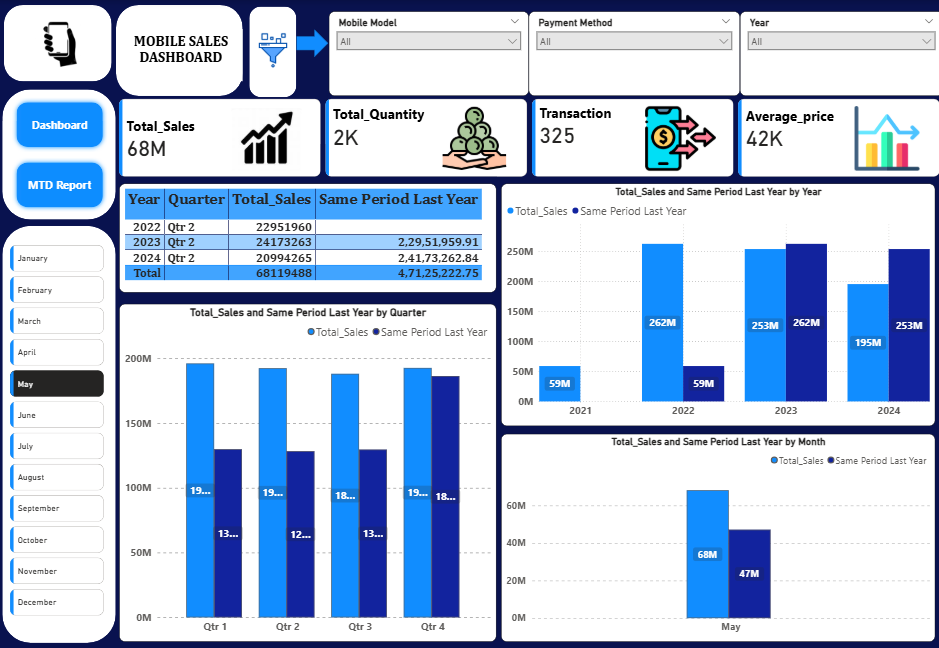

The page's visual inventory and layout, read from the dashboard file:
{"tool":"powerbi","page":{"name":"Same Period Last Year","canvas":[1600,1100],"ordinal":2},"visuals":[{"type":"shape","box":[9.5,9.5,182.9,130],"z":0},{"type":"image","box":[23,20.3,154.4,103],"z":1000},{"type":"shape","box":[5.4,150.4,192.4,220.8],"z":2000},{"type":"cardVisual","fields":{"Data":["Sales data.Total_Sales","Sales data.Total_Quantity","Sales data.Transaction","Sales data.Average_price"]},"box":[197.8,163.9,1402.1,142.2],"z":3000},{"type":"slicer","fields":{"Values":["Sales data.Payment Method"]},"box":[898.3,19.3,358.2,143.3],"z":4000},{"type":"slicer","fields":{"Values":["Sales data.Mobile Model"]},"box":[559.3,19.3,338.9,143.3],"z":5000},{"type":"slicer","fields":{"Values":["Custom_Calender.Date.Variation.Date Hierarchy.Year","Custom_Calender.Date.Variation.Date Hierarchy.Quarter","Custom_Calender.Date.Variation.Date Hierarchy.Month","Custom_Calender.Date.Variation.Date Hierarchy.Day"]},"box":[1256.5,19.3,344.4,143.3],"z":6000},{"type":"shape","box":[425.4,10.2,79.9,153.9],"z":7000},{"type":"image","box":[431.2,18.9,69.7,132.1],"z":8000},{"type":"shape","box":[505.3,50.1,54.2,47.4],"z":9000},{"type":"shape","box":[198.4,8.3,214.9,154.3],"z":10000},{"type":"textbox","box":[203.9,49.6,209.4,88.2],"z":11000},{"type":"shape","box":[5.4,382,192.4,707.1],"z":12000},{"type":"advancedSlicerVisual","fields":{"Values":["Custom_Calender.Date.Variation.Date Hierarchy.Month"]},"box":[14.9,411.8,169.3,647.5],"z":13000},{"type":"tableEx","fields":{"Values":["Custom_Calender.Date.Variation.Date Hierarchy.Year","Custom_Calender.Date.Variation.Date Hierarchy.Quarter","Sales data.Total_Sales","Sales data.Same Period Last Year"]},"box":[203.9,311.4,639.2,184.6],"z":14000},{"type":"clusteredColumnChart","fields":{"Category":["Custom_Calender.Date.Variation.Date Hierarchy.Year","Custom_Calender.Date.Variation.Date Hierarchy.Quarter"],"Y":["Sales data.Total_Sales","Sales data.Same Period Last Year"]},"box":[852.3,310.7,736.1,410.9],"z":15000},{"type":"clusteredColumnChart","fields":{"Category":["Custom_Calender.Date.Variation.Date Hierarchy.Year","Custom_Calender.Date.Variation.Date Hierarchy.Quarter"],"Y":["Sales data.Total_Sales","Sales data.Same Period Last Year"]},"box":[203.9,515.3,639.2,573.1],"z":16000},{"type":"clusteredColumnChart","fields":{"Category":["Custom_Calender.Date.Variation.Date Hierarchy.Year","Custom_Calender.Date.Variation.Date Hierarchy.Quarter","Custom_Calender.Date.Variation.Date Hierarchy.Month","Custom_Calender.Date.Variation.Date Hierarchy.Day"],"Y":["Sales data.Total_Sales","Sales data.Same Period Last Year"]},"box":[852.3,736.1,736.1,352.8],"z":17000},{"type":"pageNavigator","box":[22.2,164.1,162.7,195.2],"z":18000},{"type":"image","box":[375.7,178.6,157.1,114.3],"z":19000}]}

Visuals, with their boxes in screenshot pixels (x1, y1, x2, y2), scaled from the page's 1600x1100 canvas onto the 939x648 screenshot:
shape: select_region(6, 6, 113, 82)
image: select_region(13, 12, 104, 73)
shape: select_region(3, 89, 116, 219)
cardVisual - Sales data.Total_Sales x Sales data.Total_Quantity: select_region(116, 97, 938, 180)
slicer - Sales data.Payment Method: select_region(527, 11, 737, 96)
slicer - Sales data.Mobile Model: select_region(328, 11, 527, 96)
slicer - Custom_Calender.Date.Variation.Date Hierarchy.Year x Custom_Calender.Date.Variation.Date Hierarchy.Quarter: select_region(737, 11, 938, 96)
shape: select_region(250, 6, 297, 97)
image: select_region(253, 11, 294, 89)
shape: select_region(297, 30, 328, 57)
shape: select_region(116, 5, 243, 96)
textbox: select_region(120, 29, 243, 81)
shape: select_region(3, 225, 116, 642)
advancedSlicerVisual - Custom_Calender.Date.Variation.Date Hierarchy.Month: select_region(9, 243, 108, 624)
tableEx - Custom_Calender.Date.Variation.Date Hierarchy.Year x Custom_Calender.Date.Variation.Date Hierarchy.Quarter: select_region(120, 183, 495, 292)
clusteredColumnChart - Custom_Calender.Date.Variation.Date Hierarchy.Year x Custom_Calender.Date.Variation.Date Hierarchy.Quarter: select_region(500, 183, 932, 425)
clusteredColumnChart - Custom_Calender.Date.Variation.Date Hierarchy.Year x Custom_Calender.Date.Variation.Date Hierarchy.Quarter: select_region(120, 304, 495, 641)
clusteredColumnChart - Custom_Calender.Date.Variation.Date Hierarchy.Year x Custom_Calender.Date.Variation.Date Hierarchy.Quarter: select_region(500, 434, 932, 641)
pageNavigator: select_region(13, 97, 109, 212)
image: select_region(220, 105, 313, 173)
